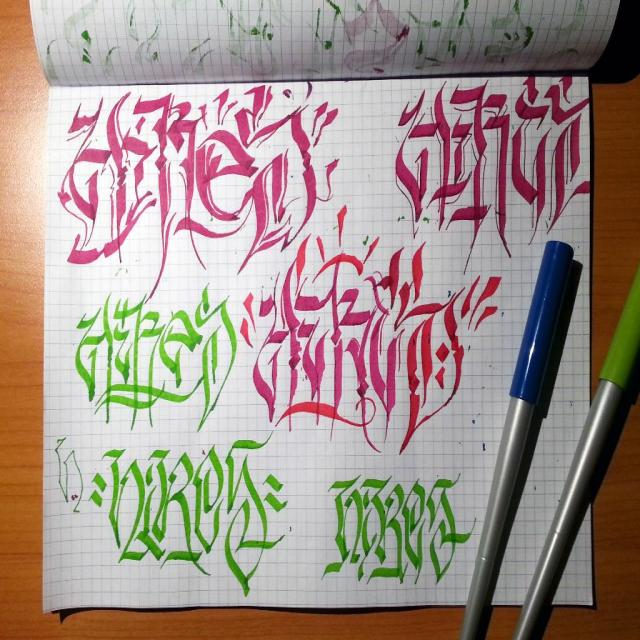pen: (455, 238, 589, 640), (515, 262, 639, 640)
